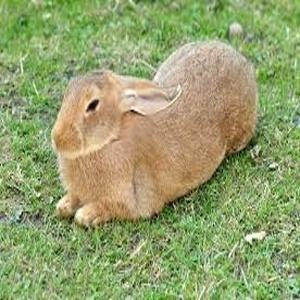rabbit: (52, 41, 257, 226)
